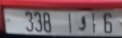3: (24, 11, 34, 34), (34, 11, 42, 34)
6: (102, 13, 113, 35)
8: (42, 11, 52, 34)
waw: (77, 13, 87, 31)
